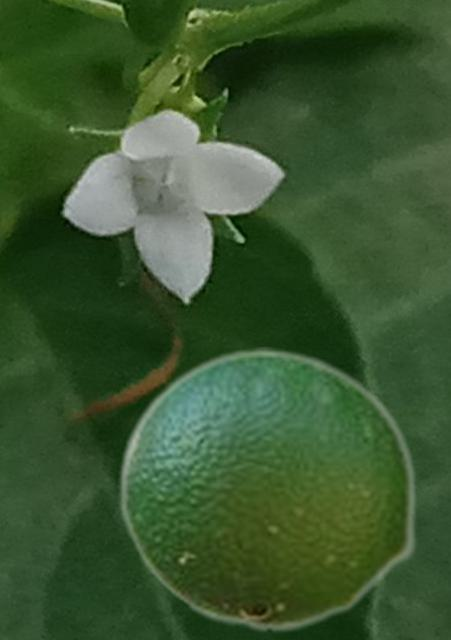dalandan: (117, 347, 417, 633)
